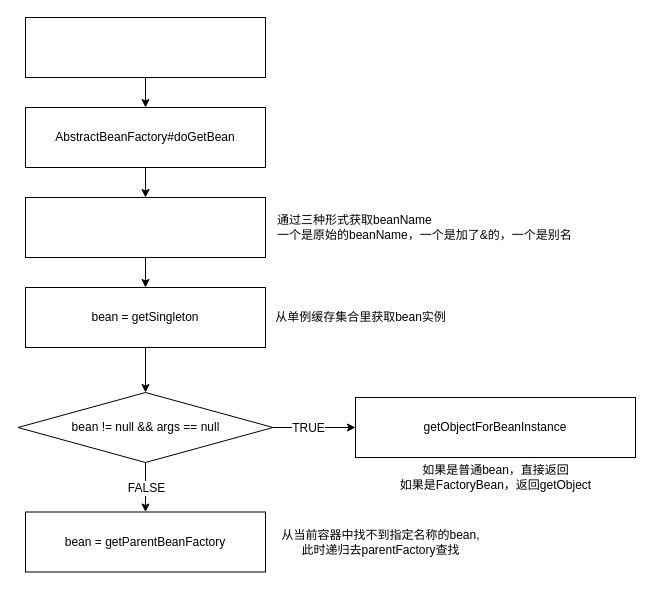
This 653x590 diagram has some shape labels left out. The shapes that lost their labels are listed below. From the top down, each one's box as (x1, y1, x2, y2) in pixels, then its label:
(24, 16, 266, 78): BeanFactory#getBean
(24, 196, 266, 258): transformedBeanName
